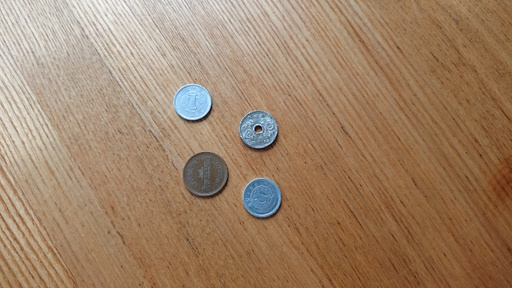10yen: (182, 152, 228, 197)
1yen: (242, 178, 281, 218), (173, 84, 211, 120)
50yen: (239, 111, 278, 150)
